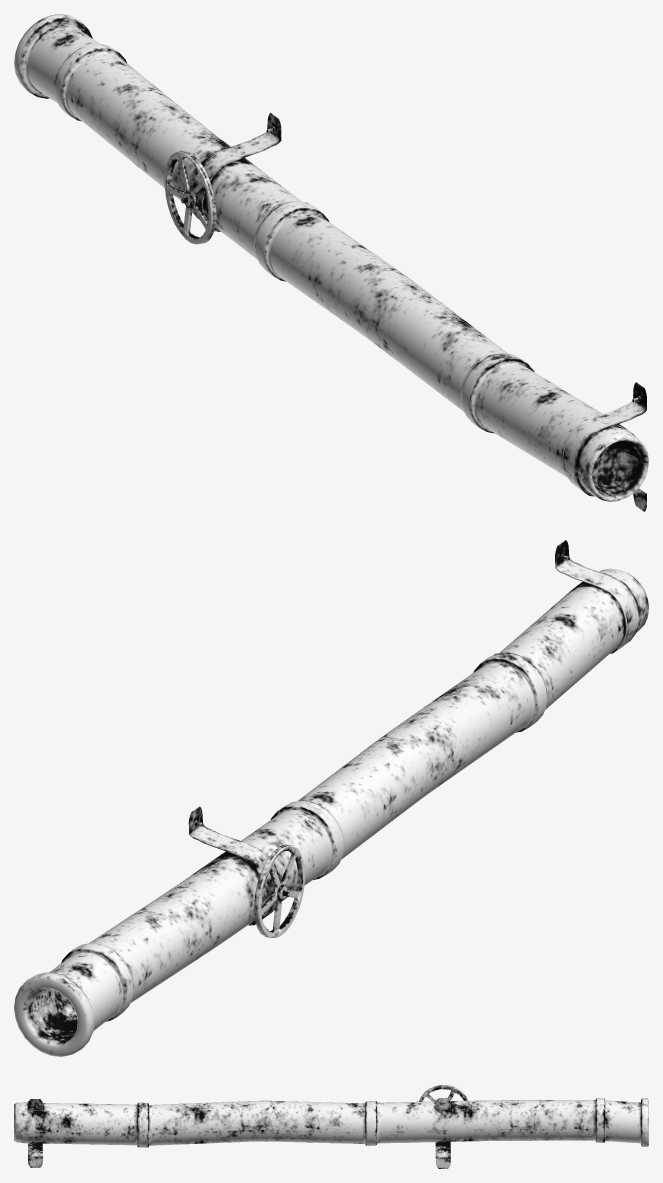
The model's file is SM_Pipe_03.fbx.
3 renders of one model, top to bottom at view 1: azimuth 30°, elevation 25°; view 2: azimuth 150°, elevation 25°; view 3: azimuth 270°, elevation 25°, orthographic. The views are drawn at different scales.
Parts seen in each view (by area): view 1: SM_Pipe_03; view 2: SM_Pipe_03; view 3: SM_Pipe_03.
Part boxes in pixels (<box>): SM_Pipe_03: <box>14,14,648,511</box>; SM_Pipe_03: <box>14,540,648,1056</box>; SM_Pipe_03: <box>14,1085,648,1168</box>.
Bounding box in the file's own units: 28.27 × 300 × 36.8.
Materials: 1 (1 with a texture image).
